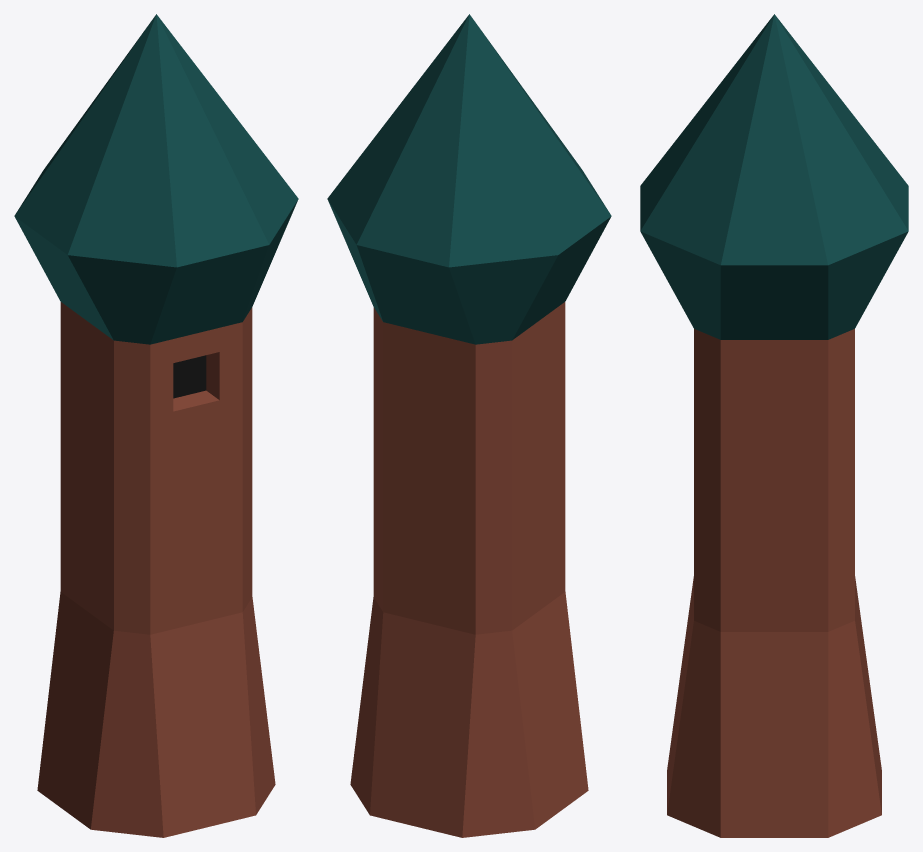
The model's file is tree.gltf.
3 renders of one model, left to right at view 1: azimuth 30°, elevation 25°; view 2: azimuth 150°, elevation 25°; view 3: azimuth 270°, elevation 25°, orthographic.
Visible parts, largest first — view 1: cylinder; view 2: cylinder; view 3: cylinder.
Part boxes in pixels (x1,y1,x2,y2): cylinder: (14,14,298,837); cylinder: (327,14,611,837); cylinder: (640,14,908,837).
Size of the model in its own units: 2.5 by 8 by 2.5.
Materials: 1 (1 with a texture image).
